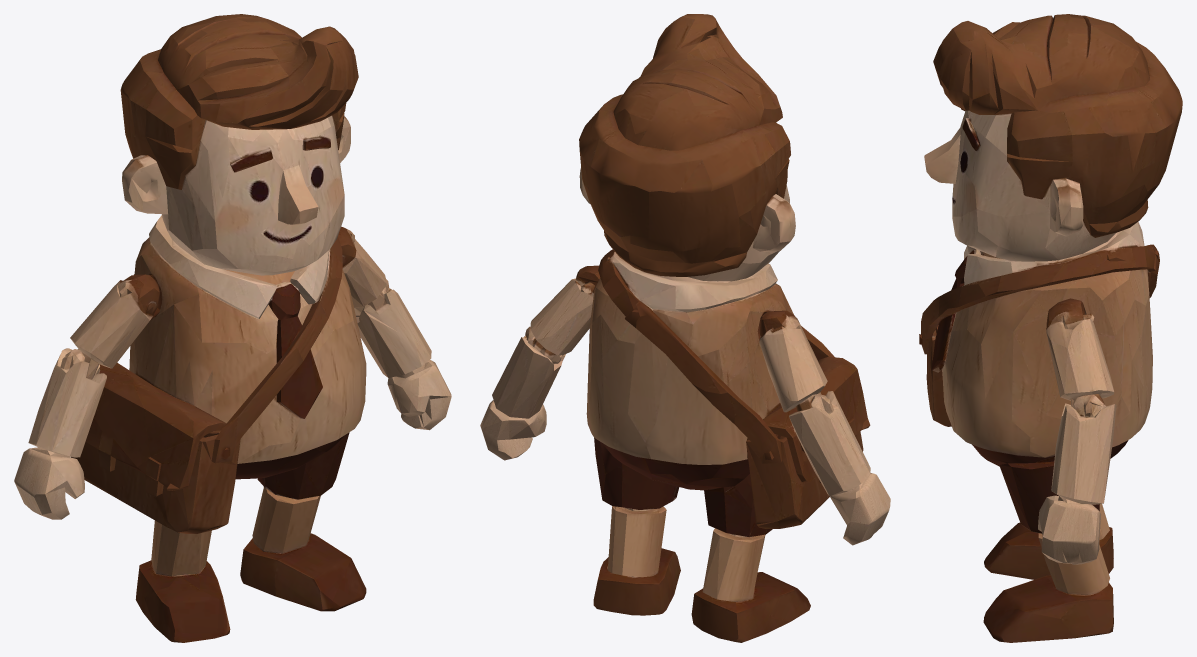
Rendered from giant-1.glb.
The picture shows the model from 3 angles, left to right: view 1: azimuth 30°, elevation 25°; view 2: azimuth 150°, elevation 25°; view 3: azimuth 270°, elevation 25°; orthographic projection. The views are drawn at different scales.
Bounding box in the file's own units: 1.41 × 1.9 × 0.7719.
1 material, 1 textured.
